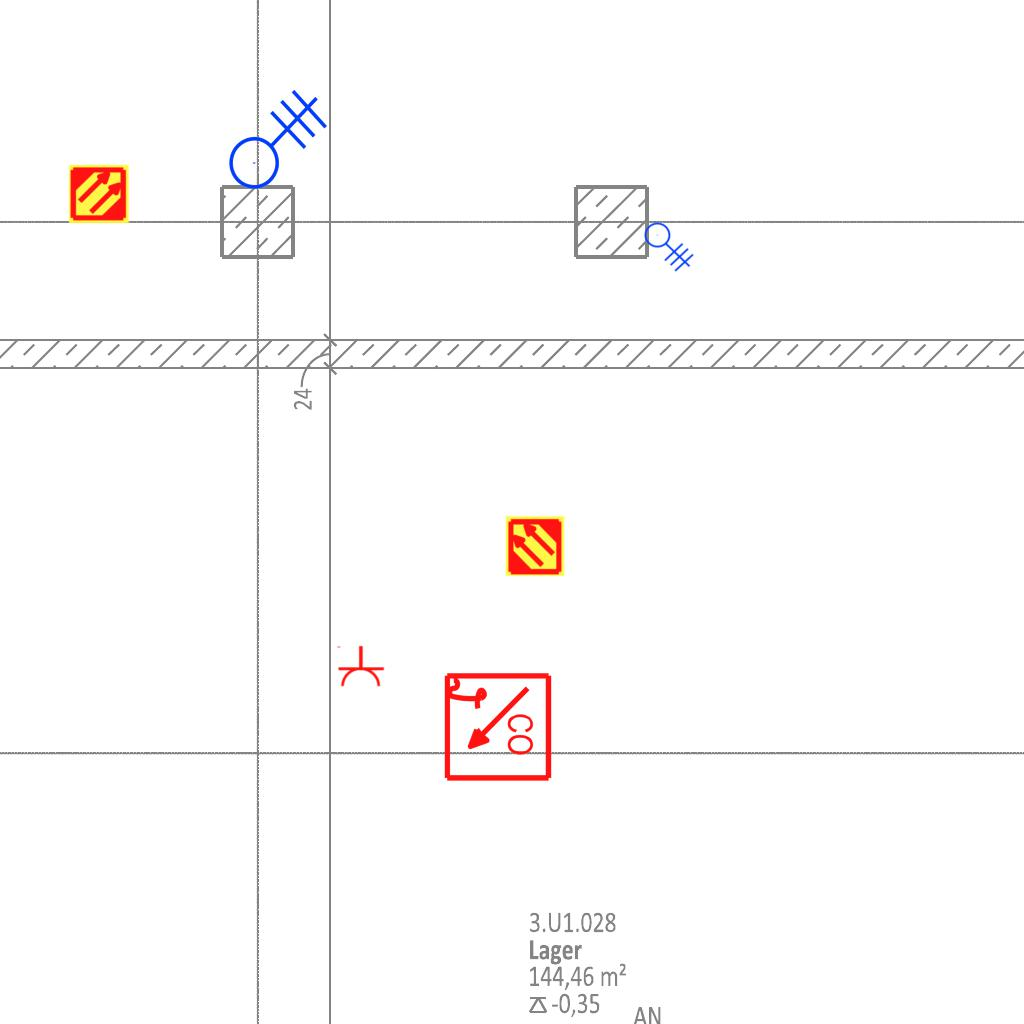ASR_Ansaugrauchmelder: (504, 515, 566, 577), (68, 163, 130, 225)
Elektroanschluss_allgemein_400V_Geraeteanschlussdose_400V: (212, 77, 328, 190), (644, 214, 700, 272)
ROA_Rauchmelder_optisch_mit_Signalgeber_(Sockelsirene): (440, 671, 553, 784)
Schukosteckdose_einfach: (335, 645, 385, 688)
